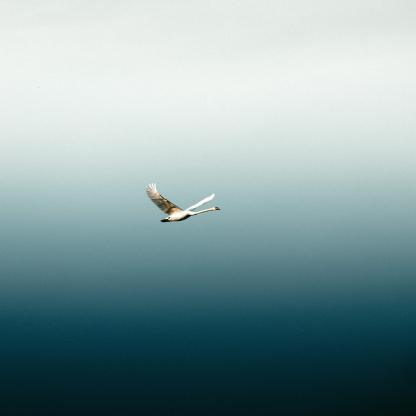bird: (144, 184, 222, 224)
